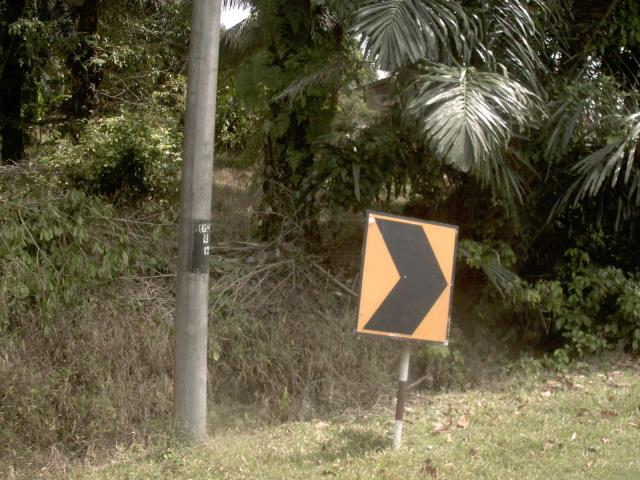traffic_sign: (345, 199, 471, 357)
